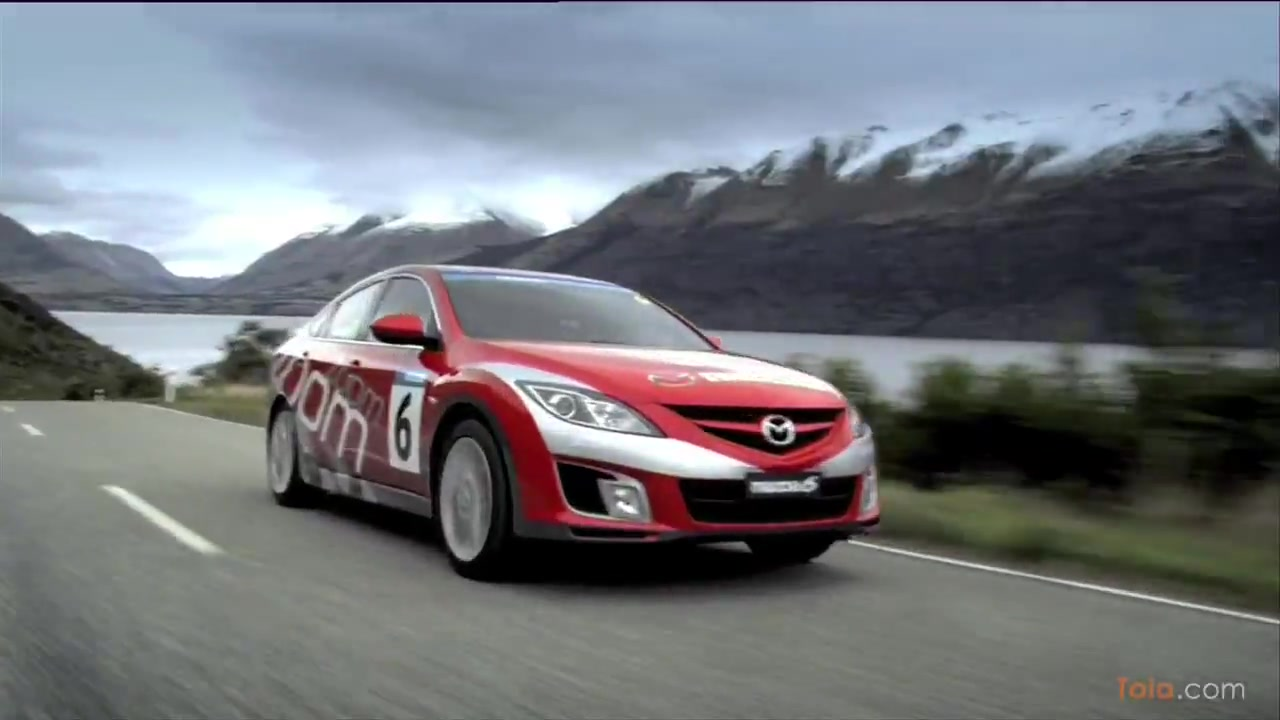car: (261, 258, 885, 588)
